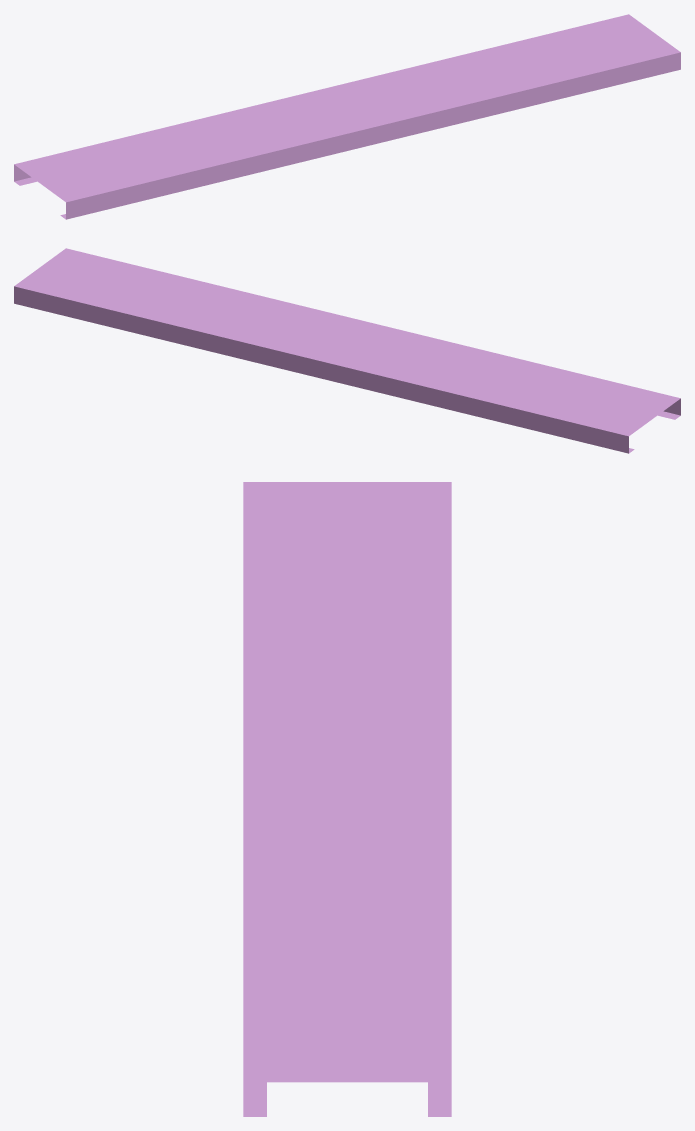
Rendered from Museum_renfort_06.fbx.
3 renders of one model, top to bottom at view 1: azimuth 30°, elevation 25°; view 2: azimuth 150°, elevation 25°; view 3: azimuth 270°, elevation 25°, orthographic. The views are drawn at different scales.
Parts seen in each view (by area): view 1: Archi_Renforts.006; view 2: Archi_Renforts.006; view 3: Archi_Renforts.006.
Part boxes in pixels (x1,y1,x2,y2): Archi_Renforts.006: (14,14,680,219); Archi_Renforts.006: (14,248,680,453); Archi_Renforts.006: (243,482,451,1116).
Bounding box in the file's own units: 514 × 13.81 × 75.38.
